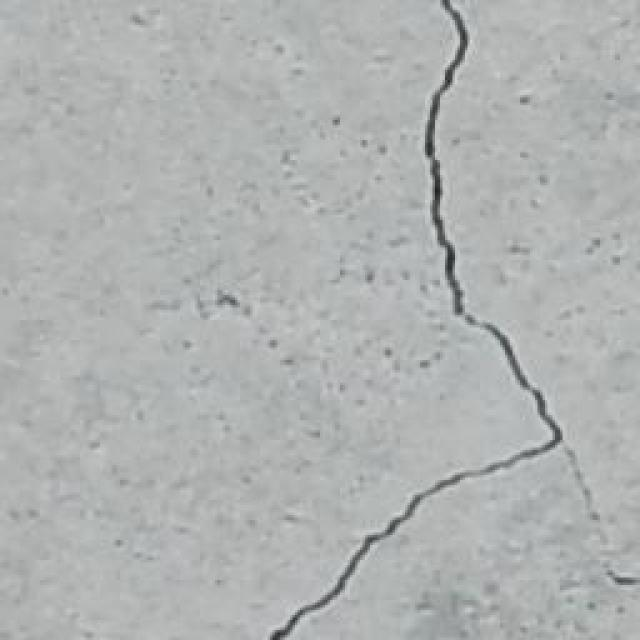concrete-crack: (268, 0, 600, 640), (610, 568, 640, 588)
